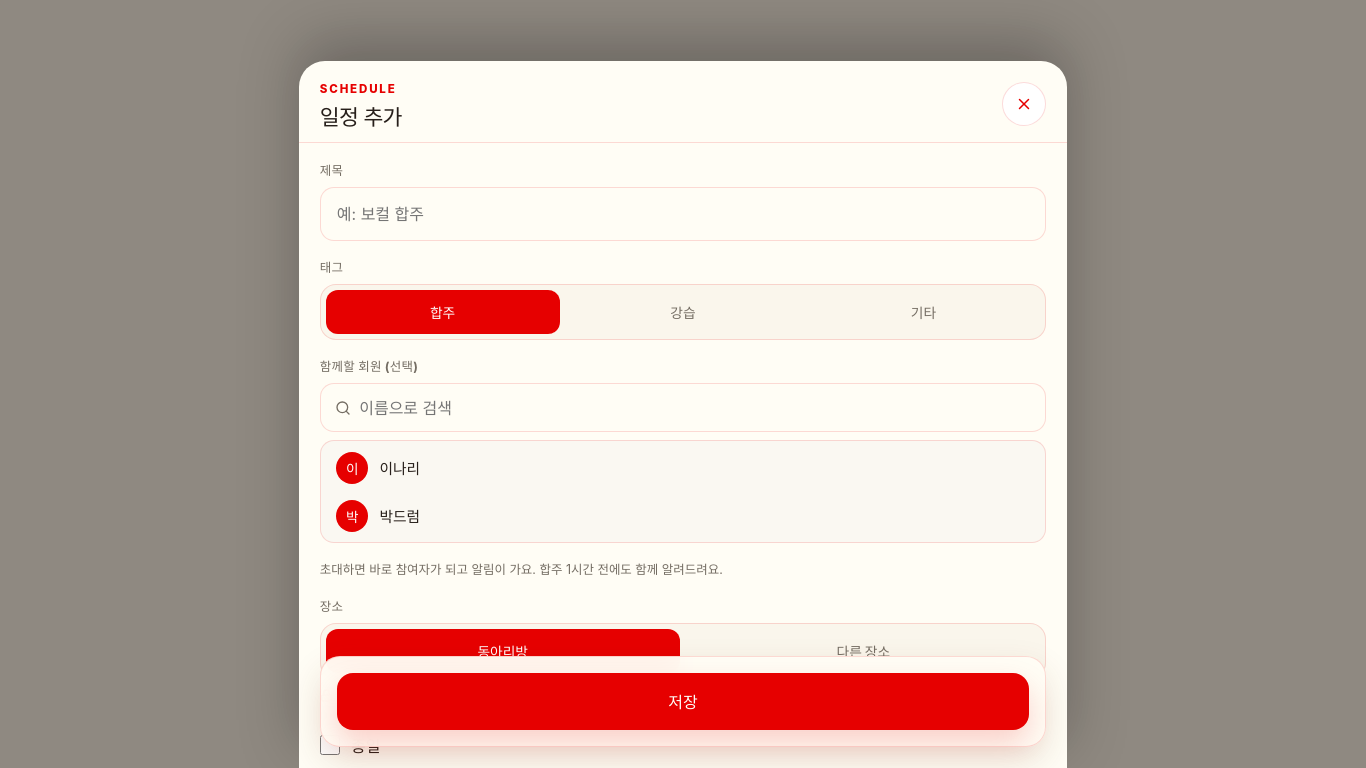
it: EntrySheet 추가 › 다른 장소에서는 시작 날짜를 바꾸면 종료 날짜도 따라간다
Click the button "다른 장소": (863, 651) left=686, top=629, right=1040, bottom=673
(page scrolled)
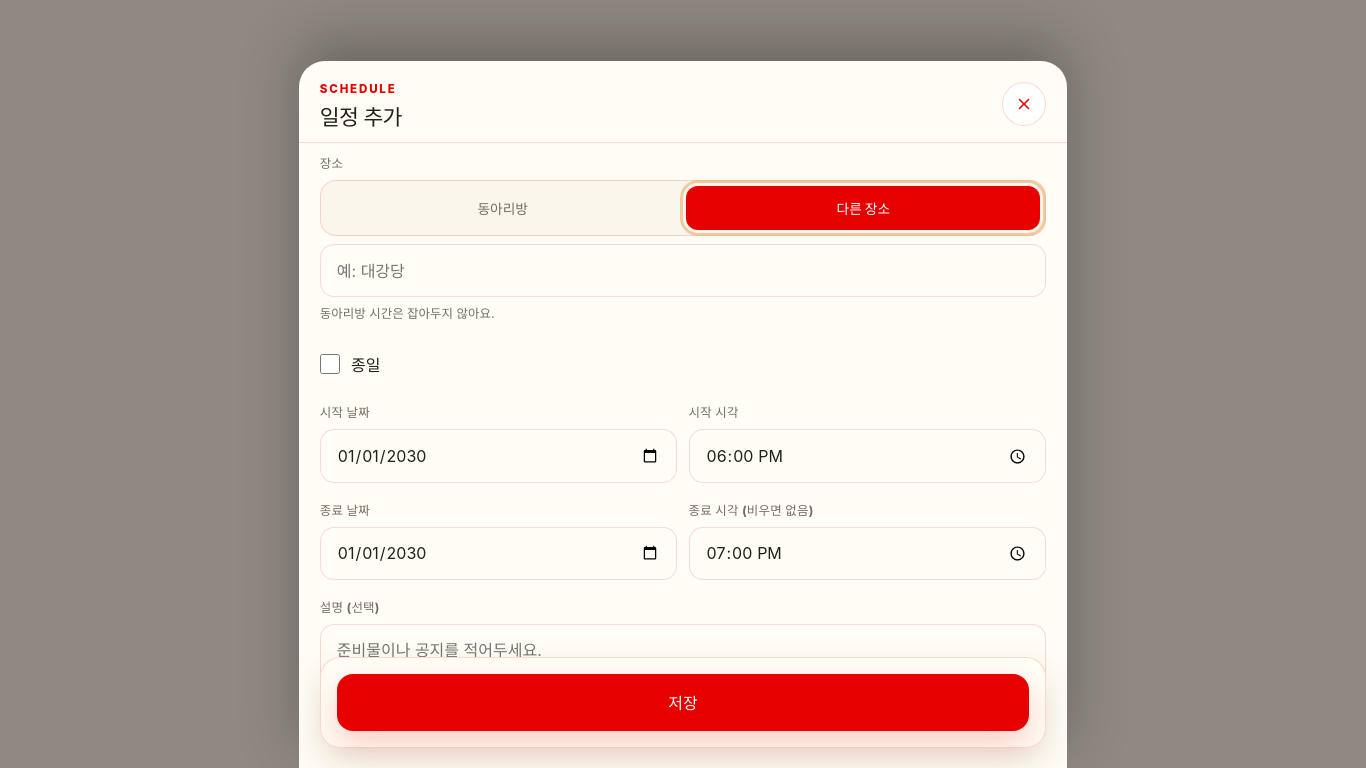
In the date field labelled "시작 날짜": (499, 456) left=320, top=429, right=677, bottom=483, type "2030-01-05"
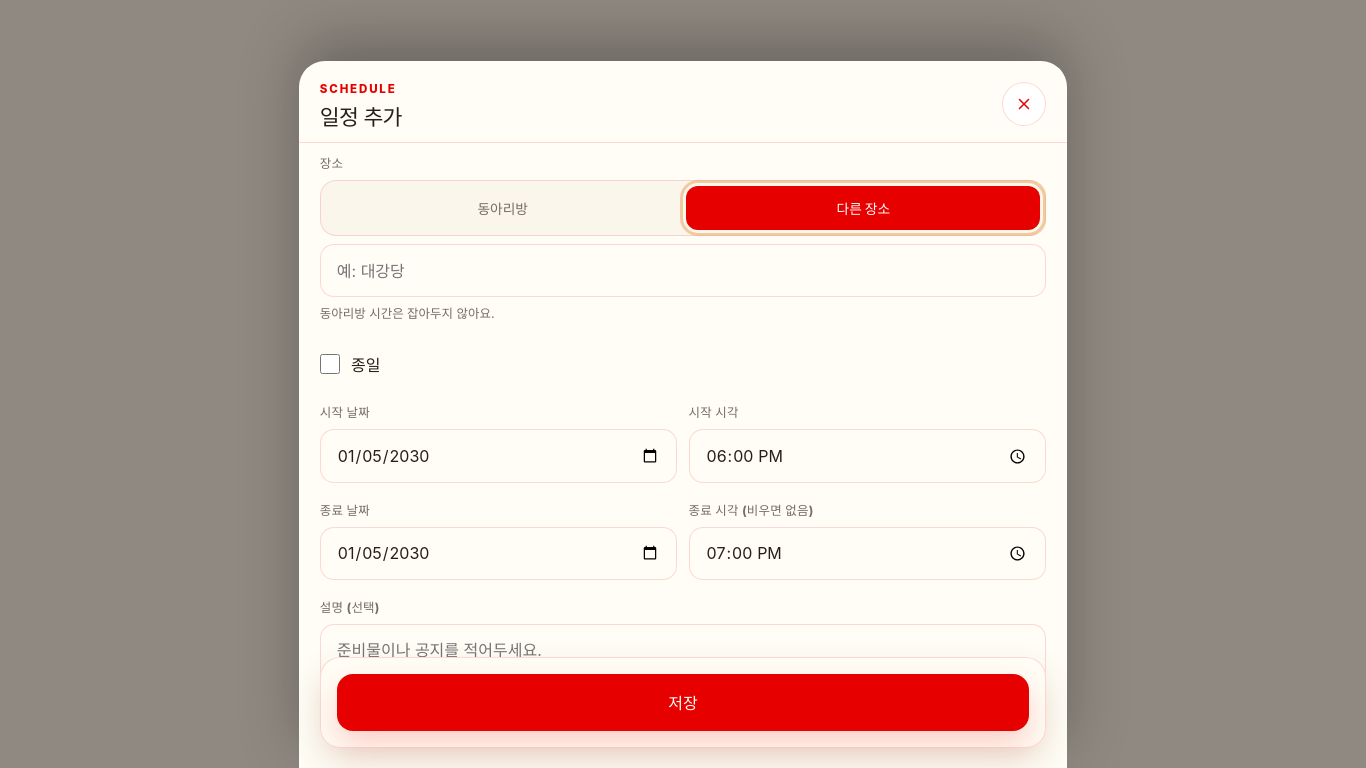
expect the date field labelled "종료 날짜" holds "2030-01-05": met, box left=320, top=527, right=677, bottom=580
